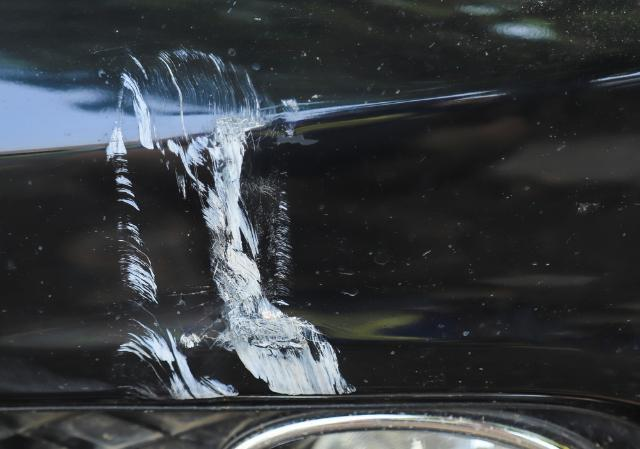scratch: (101, 47, 362, 401)
